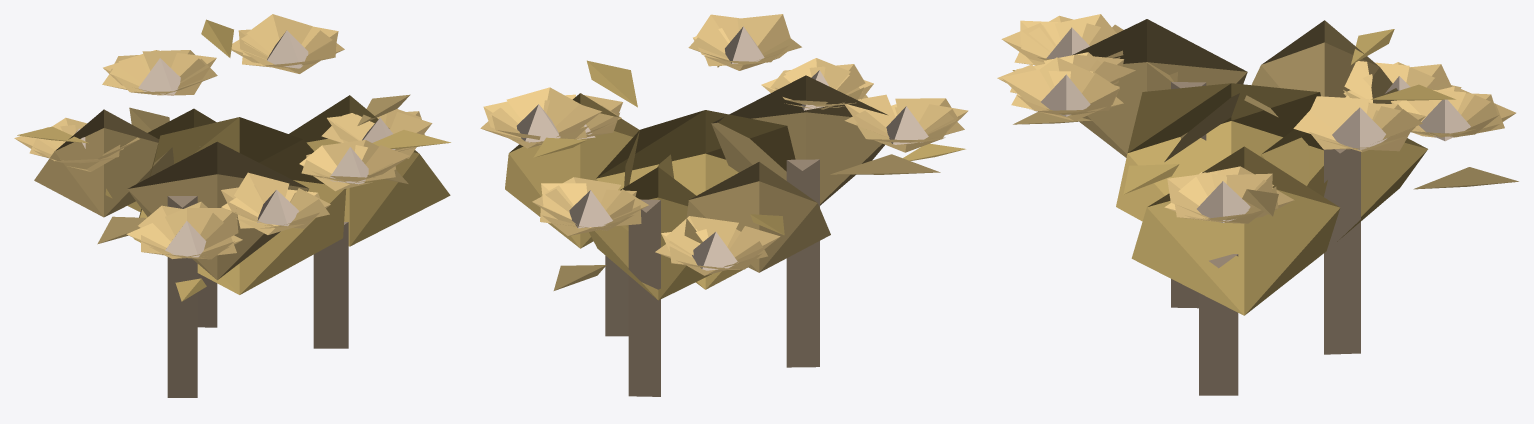
Rendered from hua.ju@flowering__autumn.glb.
The picture shows the model from 3 angles, left to right: view 1: azimuth 30°, elevation 25°; view 2: azimuth 150°, elevation 25°; view 3: azimuth 270°, elevation 25°; orthographic projection. The views are drawn at different scales.
Parts seen in each view (by area): view 1: hua.ju@flowering__autumn; view 2: hua.ju@flowering__autumn; view 3: hua.ju@flowering__autumn.
Part boxes in pixels (x1,y1,x2,y2): hua.ju@flowering__autumn: (14, 14, 450, 397); hua.ju@flowering__autumn: (480, 14, 968, 396); hua.ju@flowering__autumn: (997, 14, 1518, 395).
Bounding box in the file's own units: 1.24 × 0.8611 × 1.34.
